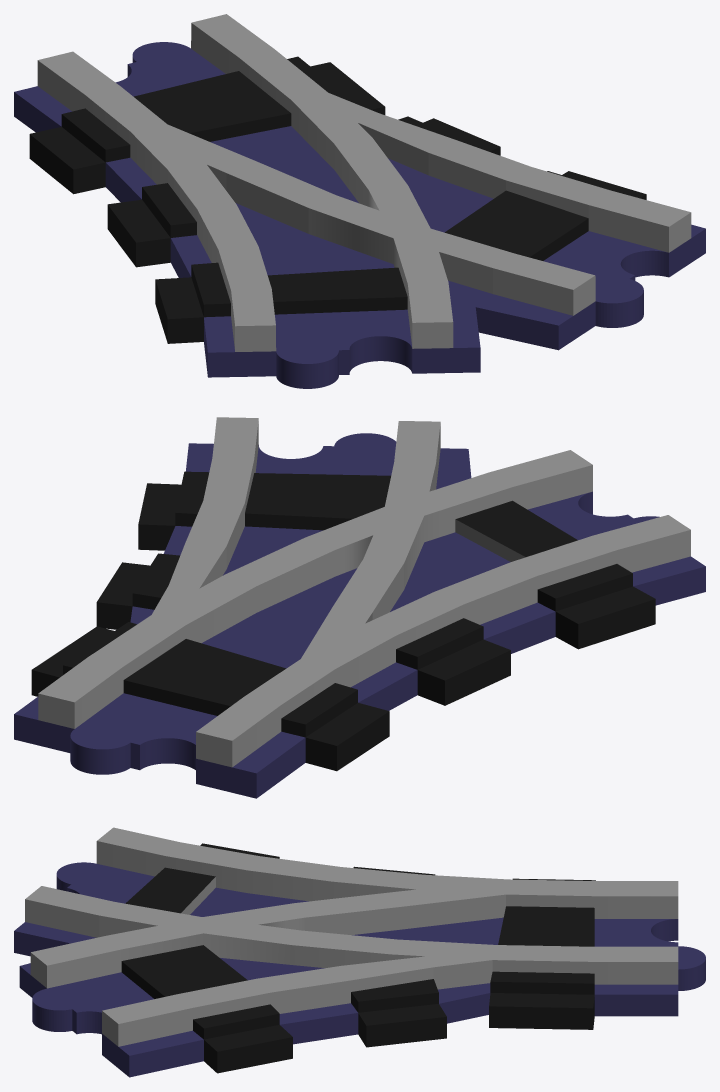
File: DoubleRail.fbx
3 renders of one model, top to bottom at view 1: azimuth 30°, elevation 25°; view 2: azimuth 150°, elevation 25°; view 3: azimuth 270°, elevation 25°, orthographic. The views are drawn at different scales.
Parts seen in each view (by area): view 1: Cube.013; view 2: Cube.013; view 3: Cube.013.
Boxes of the visible parts, left/top/right/bottom form: Cube.013: left=14, top=14, right=705, bottom=388; Cube.013: left=14, top=417, right=705, bottom=798; Cube.013: left=14, top=827, right=705, bottom=1077.
Size of the model in its own units: 424 by 41.14 by 578.
